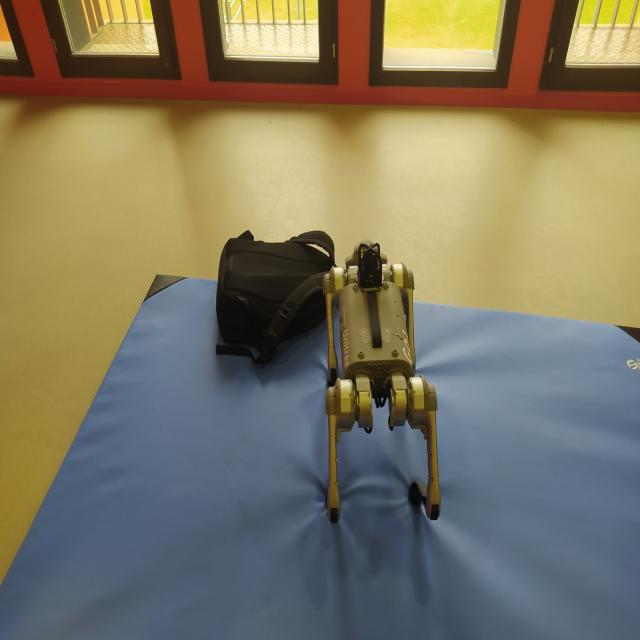unitree-go1-robot: (308, 236, 461, 536)
